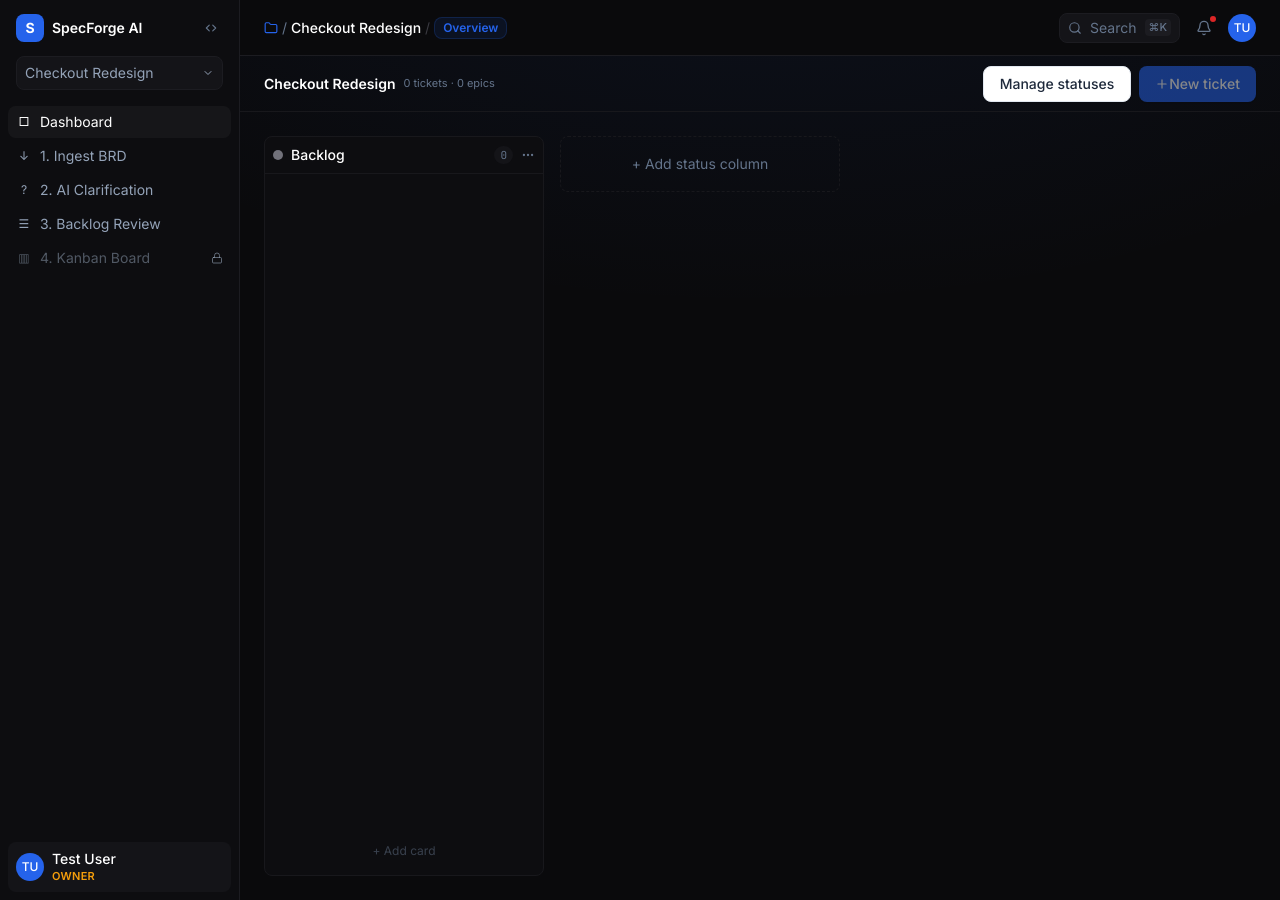
Test: App — publish-to-board navigation › keeps the success toast visible on the board after publishing unmounts BacklogReviewPage
Step 1. Click the button "☰ 3. Backlog Review" → [120, 224], box [8,208,231,240]
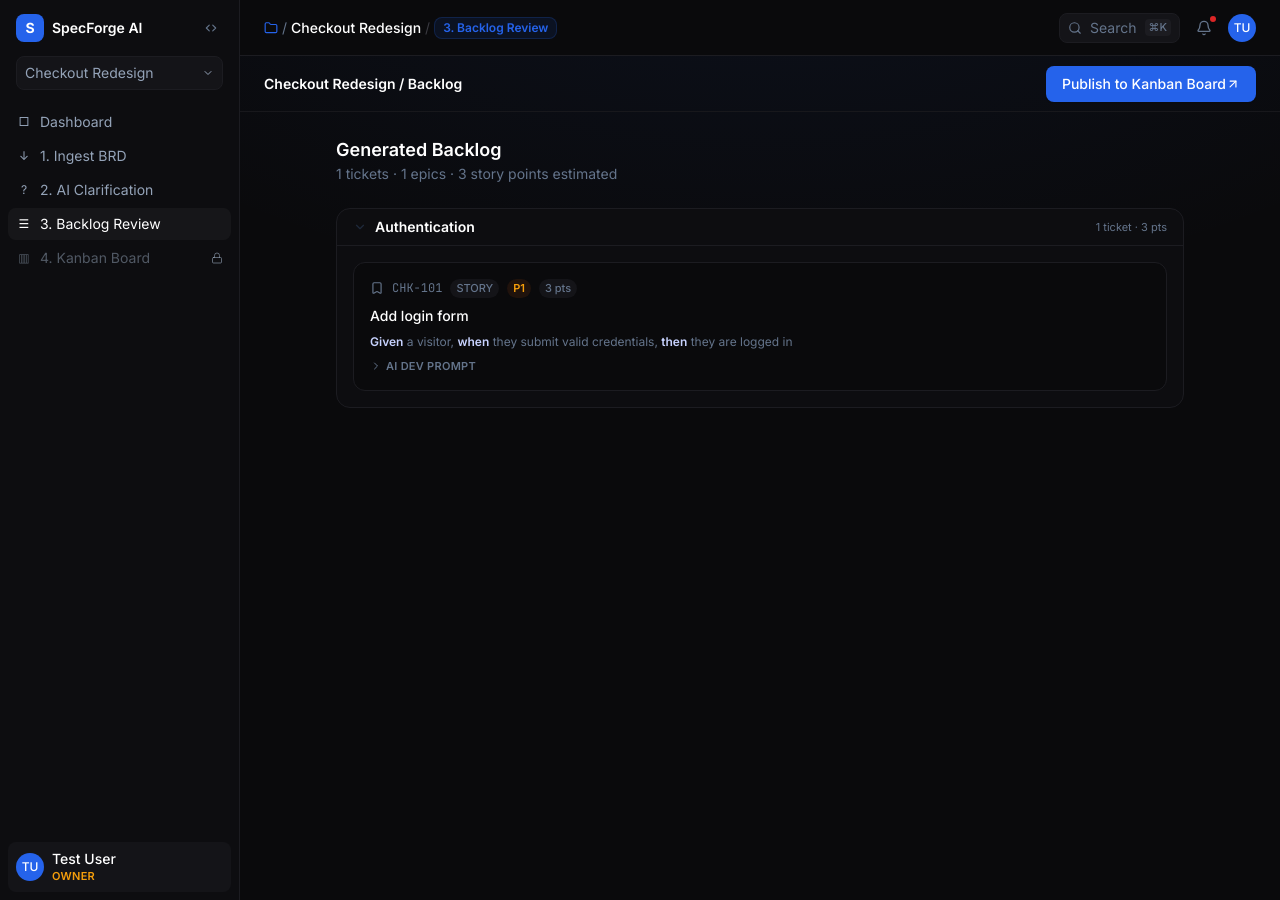
Step 2. Click the button "Publish to Kanban Board" → [1151, 84], box [1046,66,1256,102]
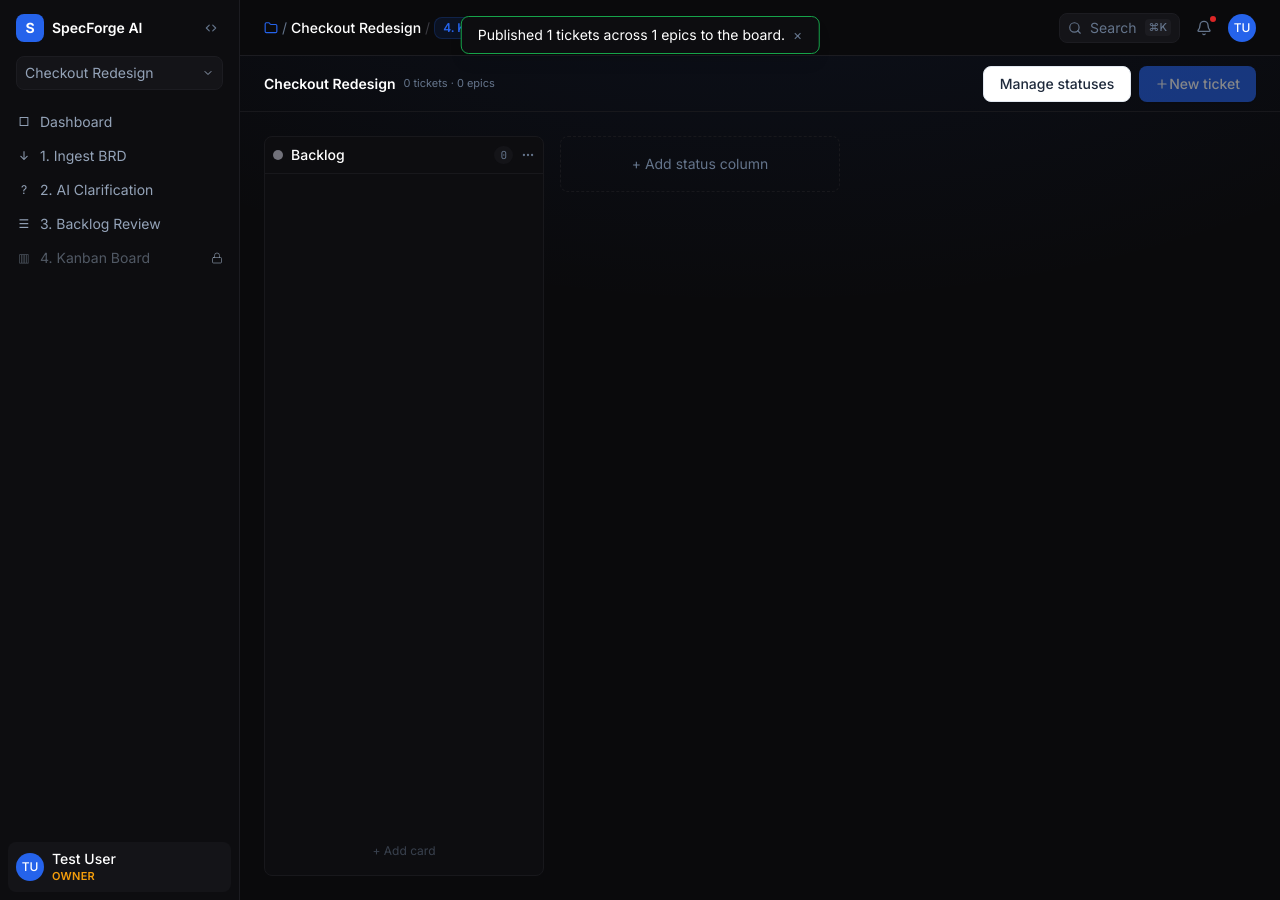
expect the element with test id "backlog-breadcrumb" is gone: met
expect the text "Published 1 tickets across 1 epics to the board." is shown: met, box [478,25,785,45]
